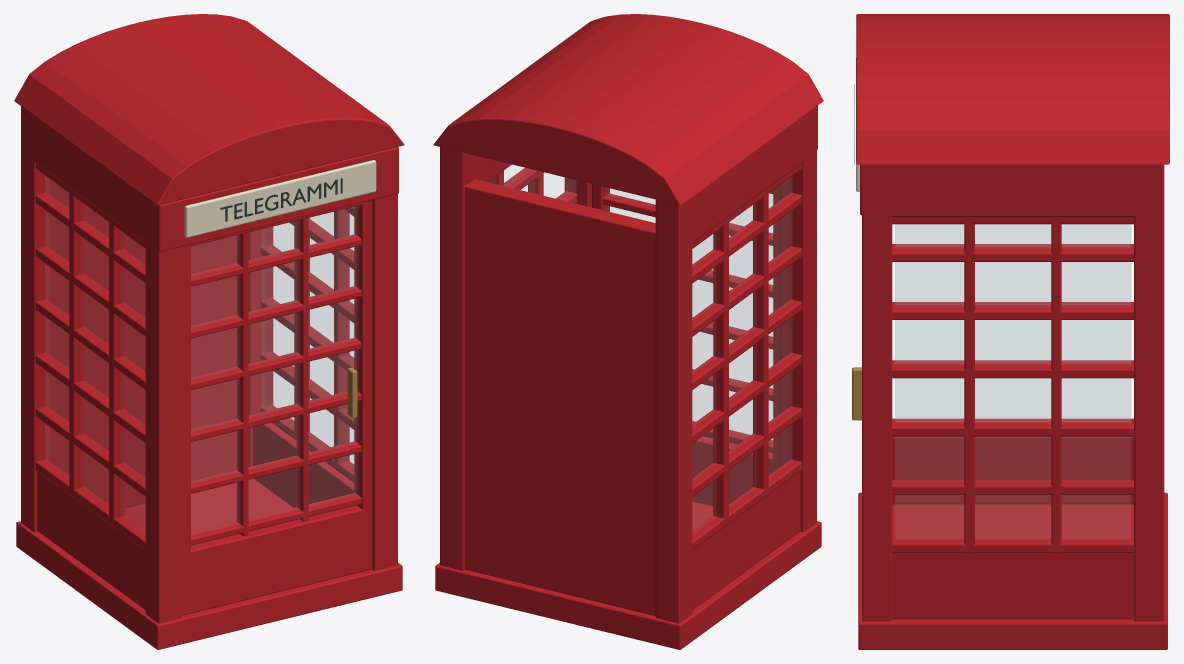
Rendered from contact-booth.glb.
3 renders of one model, left to right at view 1: azimuth 30°, elevation 25°; view 2: azimuth 150°, elevation 25°; view 3: azimuth 270°, elevation 25°, orthographic. The views are drawn at different scales.
Parts seen in each view (by area): view 1: Review_Roof, Review_DoorGlass, Review_BackPanel, Review_Base, Review_Corner, Review_DoorBottom, Review_SideGlass, Review_Corner.001, Review_Corner.002, Review_SideGlass.001, Review_SidePlinth, Booth_SideHeader (+31 smaller); view 2: Review_BackPanel, Review_Roof, Review_Corner.001, Review_SideGlass, Review_Base, Review_Corner, Review_Corner.003, Booth_SideHeader, Review_SidePlinth, Review_DoorGlass, Review_SideMullion, Review_SideMullion.001 (+12 smaller); view 3: Review_SideGlass.001, Review_Roof, Review_SideGlass, Review_Base, Review_SidePlinth.001, Booth_SideHeader.001, Review_Corner.003, Review_Corner.002, Review_SidePlinth, Review_SideRail.010, Review_SideMullion.002, Review_SideMullion.003 (+12 smaller).
Part boxes in pixels (<box>): Review_Roof: <box>14,14,404,205</box>; Review_DoorGlass: <box>191,206,356,534</box>; Review_BackPanel: <box>57,185,236,508</box>; Review_Base: <box>16,479,402,649</box>; Review_Corner: <box>145,215,182,623</box>; Review_DoorBottom: <box>182,505,372,615</box>; Review_SideGlass: <box>46,177,144,529</box>; Review_Corner.001: <box>21,123,57,532</box>; Review_Corner.002: <box>372,194,397,570</box>; Review_SideGlass.001: <box>262,210,353,470</box>; Review_SidePlinth: <box>37,471,145,609</box>; Booth_SideHeader: <box>21,106,159,251</box>; Review_BackPanel: <box>465,179,655,615</box>; Review_Roof: <box>433,14,823,205</box>; Review_Corner.001: <box>655,214,692,623</box>; Review_SideGlass: <box>693,177,791,529</box>; Review_Base: <box>435,501,821,649</box>; Review_Corner: <box>780,130,816,532</box>; Review_Corner.003: <box>440,161,476,570</box>; Booth_SideHeader: <box>655,106,816,251</box>; Review_SidePlinth: <box>692,471,800,609</box>; Review_DoorGlass: <box>607,188,772,441</box>; Review_SideMullion: <box>753,187,768,497</box>; Review_SideMullion.001: <box>713,217,728,526</box>; Review_SideGlass.001: <box>895,225,1130,537</box>; Review_Roof: <box>856,14,1169,164</box>; Review_SideGlass: <box>895,225,1130,421</box>; Review_Base: <box>858,492,1167,649</box>; Review_SidePlinth.001: <box>892,553,1133,619</box>; Booth_SideHeader.001: <box>862,164,1164,216</box>; Review_Corner.003: <box>1134,184,1164,621</box>; Review_Corner.002: <box>862,184,892,621</box>; Review_SidePlinth: <box>892,436,1133,504</box>; Review_SideRail.010: <box>892,363,1133,378</box>; Review_SideMullion.002: <box>964,217,974,553</box>; Review_SideMullion.003: <box>1051,217,1061,553</box>.
Size of the model in its own units: 1.65 by 3.15 by 1.68.
